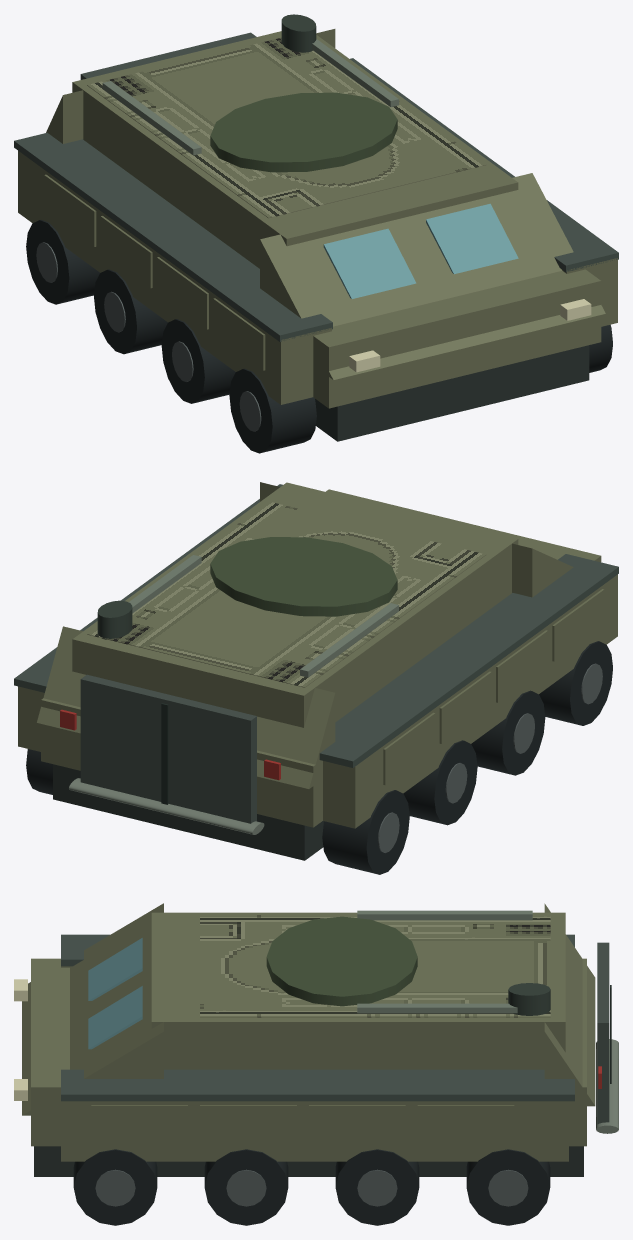
The model's file is CMU3DReduxVehicleSPPAPC.glb.
3 views of the same model, one above another, from view 1: azimuth 30°, elevation 25°; view 2: azimuth 150°, elevation 25°; view 3: azimuth 270°, elevation 25° (orthographic). The views are drawn at different scales.
Visible parts, largest first — view 1: source compartment roof, sloped front armor, upper troop compartment, lower personnel hull, upper fender (×2), rubber road tire (×5), turret bearing, side sponson (×2), sealed armored belly, driver vision glass (×2), side armor plate (×4), recessed metal wheel hub (×4) (+4 smaller); view 2: upper troop compartment, source compartment roof, rear access ramp, upper fender (×2), rubber road tire (×5), turret bearing, side sponson (×2), side armor plate (×4), rear sloped armor, lower personnel hull, sealed armored belly, recessed metal wheel hub (×4) (+5 smaller); view 3: upper troop compartment, source compartment roof, upper fender (×2), rubber road tire (×4), side sponson, side armor plate (×4), turret bearing, sloped front armor, lower personnel hull, rear sloped armor, recessed metal wheel hub (×4), sealed armored belly (+5 smaller).
Boxes of the visible parts, x1,y1,x2,y2 form: source compartment roof: (87, 37, 485, 218); sloped front armor: (260, 173, 605, 379); upper troop compartment: (72, 31, 518, 268); lower personnel hull: (313, 269, 601, 408); upper fender (×2): (14, 58, 618, 341); rubber road tire (×5): (26, 220, 612, 453); turret bearing: (210, 92, 397, 172); side sponson (×2): (18, 151, 617, 404); sealed armored belly: (315, 345, 589, 441); driver vision glass (×2): (323, 203, 518, 298); side armor plate (×4): (44, 174, 265, 370); recessed metal wheel hub (×4): (36, 242, 261, 431); upper troop compartment: (72, 482, 518, 727); source compartment roof: (87, 501, 486, 687); rear access ramp: (80, 674, 256, 823); upper fender (×2): (14, 484, 618, 767); rubber road tire (×5): (26, 641, 612, 874); turret bearing: (210, 537, 397, 616); side sponson (×2): (18, 574, 617, 828); side armor plate (×4): (383, 589, 604, 785); rear sloped armor: (37, 626, 335, 788); lower personnel hull: (41, 489, 601, 827); sealed armored belly: (53, 764, 323, 860); recessed metal wheel hub (×4): (378, 663, 602, 852); upper troop compartment: (151, 912, 565, 1069); source compartment roof: (200, 915, 550, 1017); upper fender (×2): (61, 934, 574, 1101); rubber road tire (×4): (73, 1149, 550, 1225); side sponson: (61, 1101, 568, 1161); side armor plate (×4): (91, 1105, 514, 1139); turret bearing: (266, 916, 417, 1006); sloped front armor: (22, 903, 163, 1115); lower personnel hull: (31, 958, 586, 1146); rear sloped armor: (544, 903, 595, 1106); recessed metal wheel hub (×4): (95, 1169, 528, 1206); sealed armored belly: (34, 1146, 583, 1176).
Size of the model in its own units: 2.92 by 1.69 by 4.63.
Materials: 15 (1 with a texture image).
